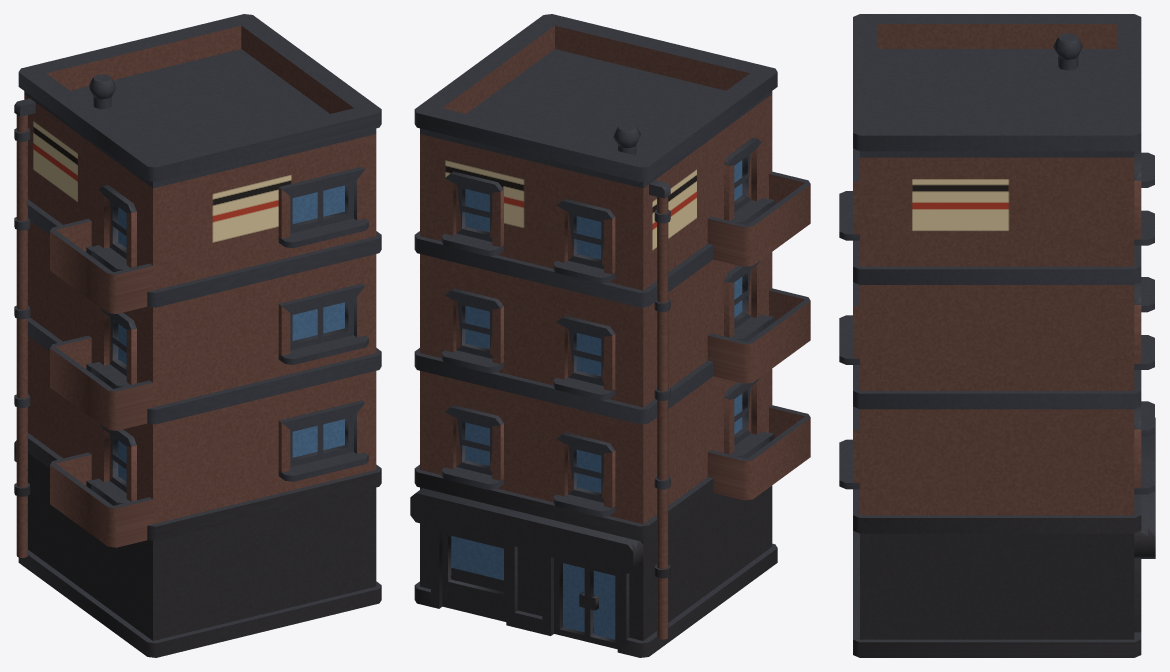
Rendered from building-g-brown.glb.
3 renders of one model, left to right at view 1: azimuth 30°, elevation 25°; view 2: azimuth 150°, elevation 25°; view 3: azimuth 270°, elevation 25°, orthographic. The views are drawn at different scales.
Visible parts, largest first — view 1: building-g-brown; view 2: building-g-brown; view 3: building-g-brown.
Boxes of the visible parts, x1,y1,x2,y2 form: building-g-brown: [14, 14, 381, 657]; building-g-brown: [410, 14, 810, 657]; building-g-brown: [839, 14, 1155, 657].
Bounding box in the file's own units: 0.97 × 1.69 × 0.922.
1 material, 1 textured.
